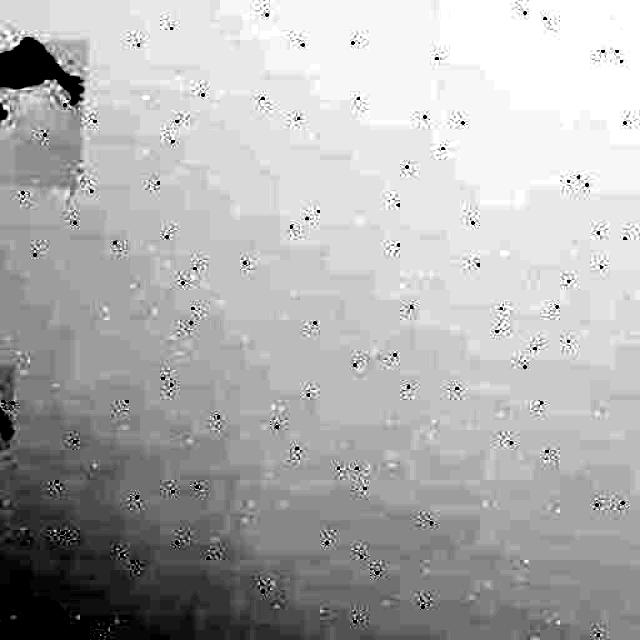airplane: (0, 25, 88, 189)
